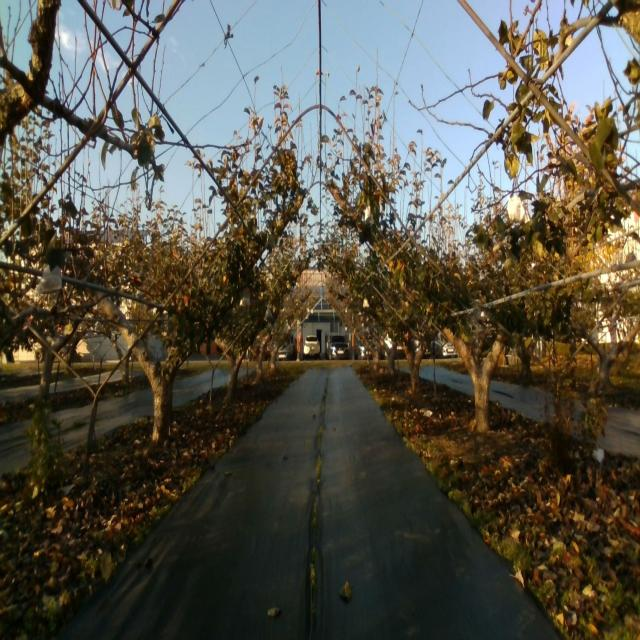pearbags: (38, 264, 62, 293), (508, 196, 532, 224)
